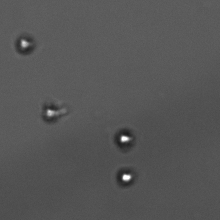Living Cell: (41, 99, 67, 123), (113, 126, 137, 149), (115, 165, 137, 188), (14, 34, 37, 55)
